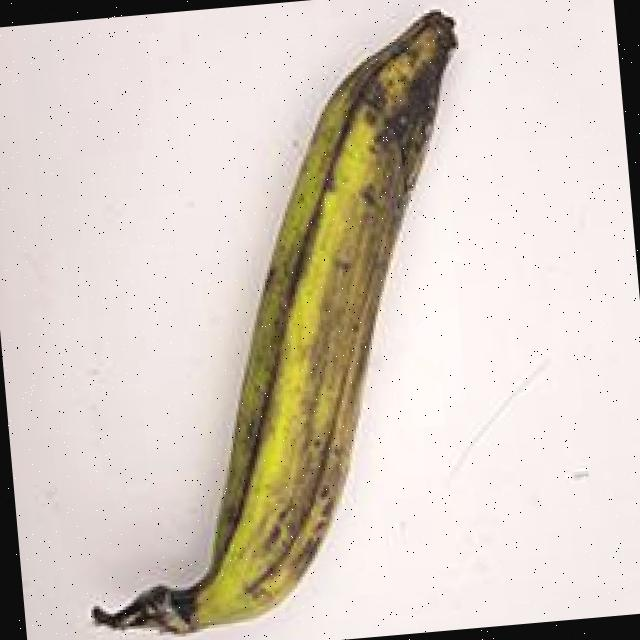Overripe: (33, 0, 520, 640)
